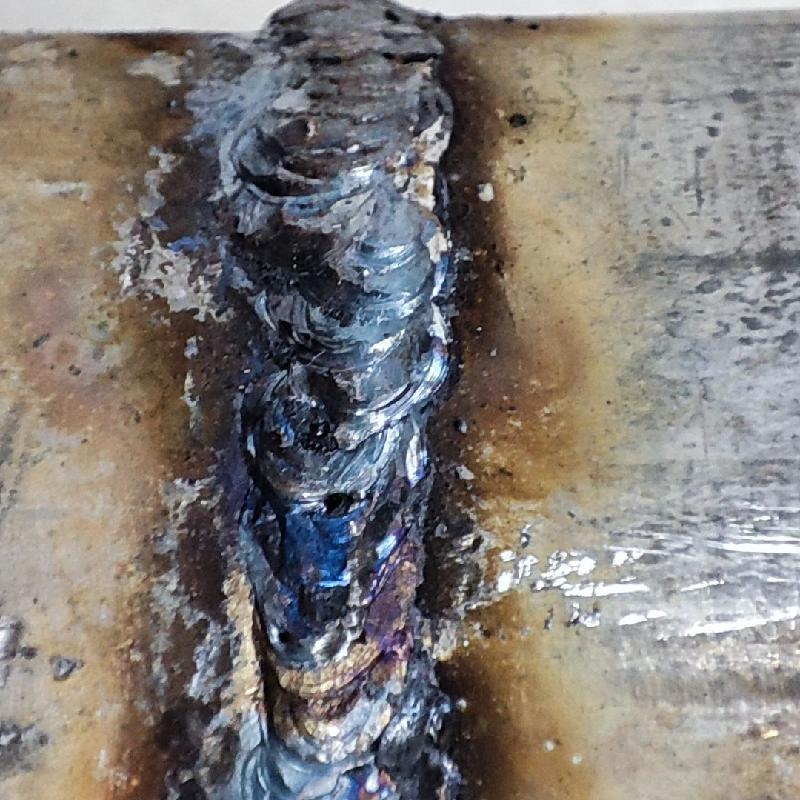Surface_pores: (303, 480, 363, 527), (269, 615, 303, 656)
